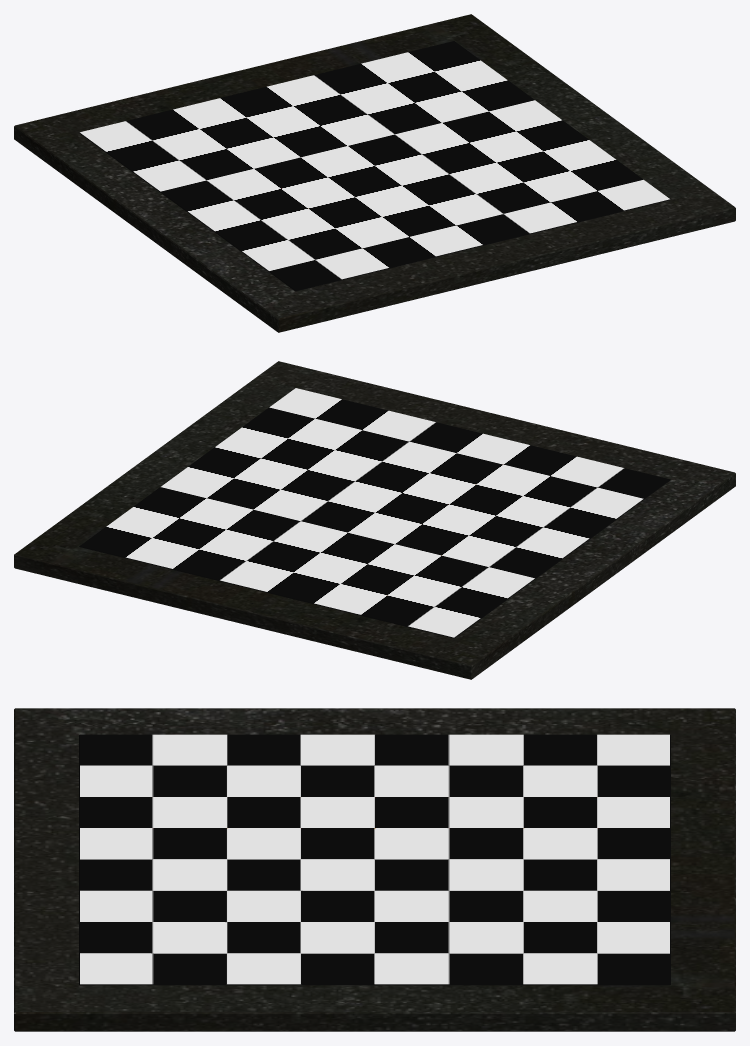
File: StoneChessBoard.fbx
3 views of the same model, one above another, from view 1: azimuth 30°, elevation 25°; view 2: azimuth 150°, elevation 25°; view 3: azimuth 270°, elevation 25° (orthographic). The views are drawn at different scales.
Parts seen in each view (by area): view 1: ChessBoardBase; view 2: ChessBoardBase; view 3: ChessBoardBase.
Boxes of the visible parts, x1,y1,x2,y2 form: ChessBoardBase: (14, 14, 735, 332); ChessBoardBase: (14, 361, 735, 679); ChessBoardBase: (14, 708, 735, 1031).
Bounding box in the file's own units: 10 × 0.3103 × 10.
